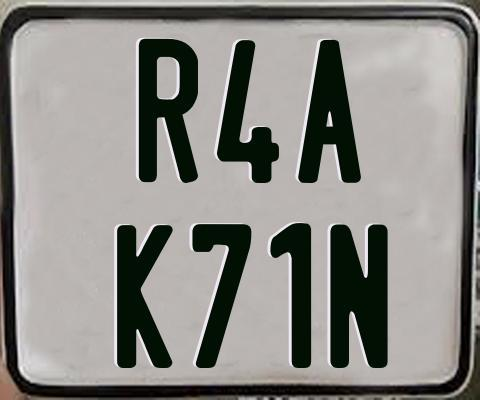1: (267, 221, 310, 368)
4: (216, 40, 283, 189)
7: (192, 222, 255, 371)
A: (295, 37, 359, 184)
K: (116, 224, 172, 369)
N: (330, 224, 389, 369)
R: (139, 39, 202, 187)
